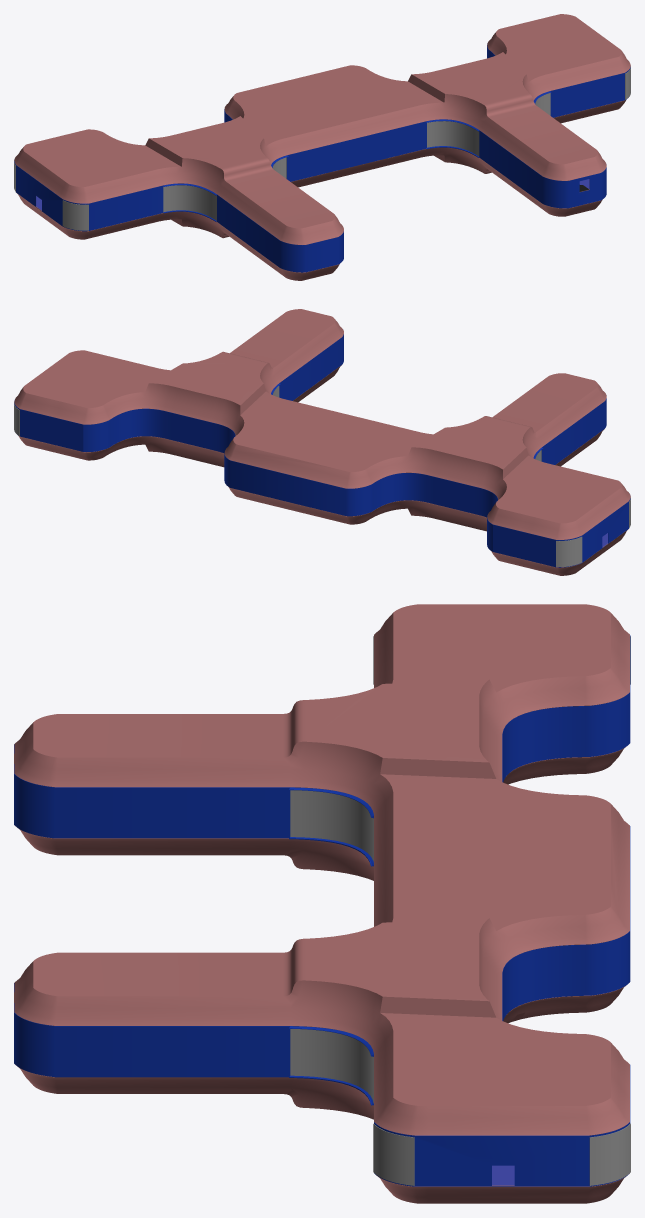
Rendered from SS Module 13.FBX.
The picture shows the model from 3 angles, top to bottom: view 1: azimuth 30°, elevation 25°; view 2: azimuth 150°, elevation 25°; view 3: azimuth 270°, elevation 25°; orthographic projection. The views are drawn at different scales.
Visible parts, largest first — view 1: Plane065; view 2: Plane065; view 3: Plane065.
Boxes of the visible parts, x1=… form: Plane065: x1=14, y1=14, x2=630, y2=280; Plane065: x1=14, y1=309, x2=630, y2=575; Plane065: x1=14, y1=604, x2=630, y2=1203.
Bounding box in the file's own units: 215 × 24.8 × 109.
